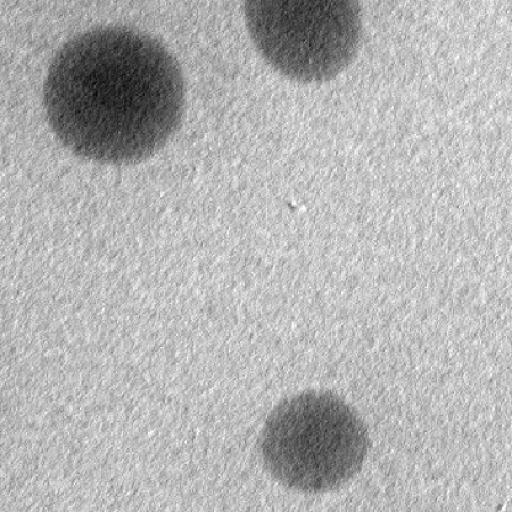Nanoparticles: (42, 28, 184, 164), (255, 386, 373, 496), (244, 0, 366, 84)
